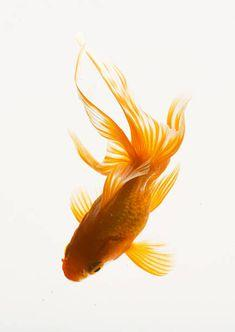goldfish: (42, 134, 206, 299)
